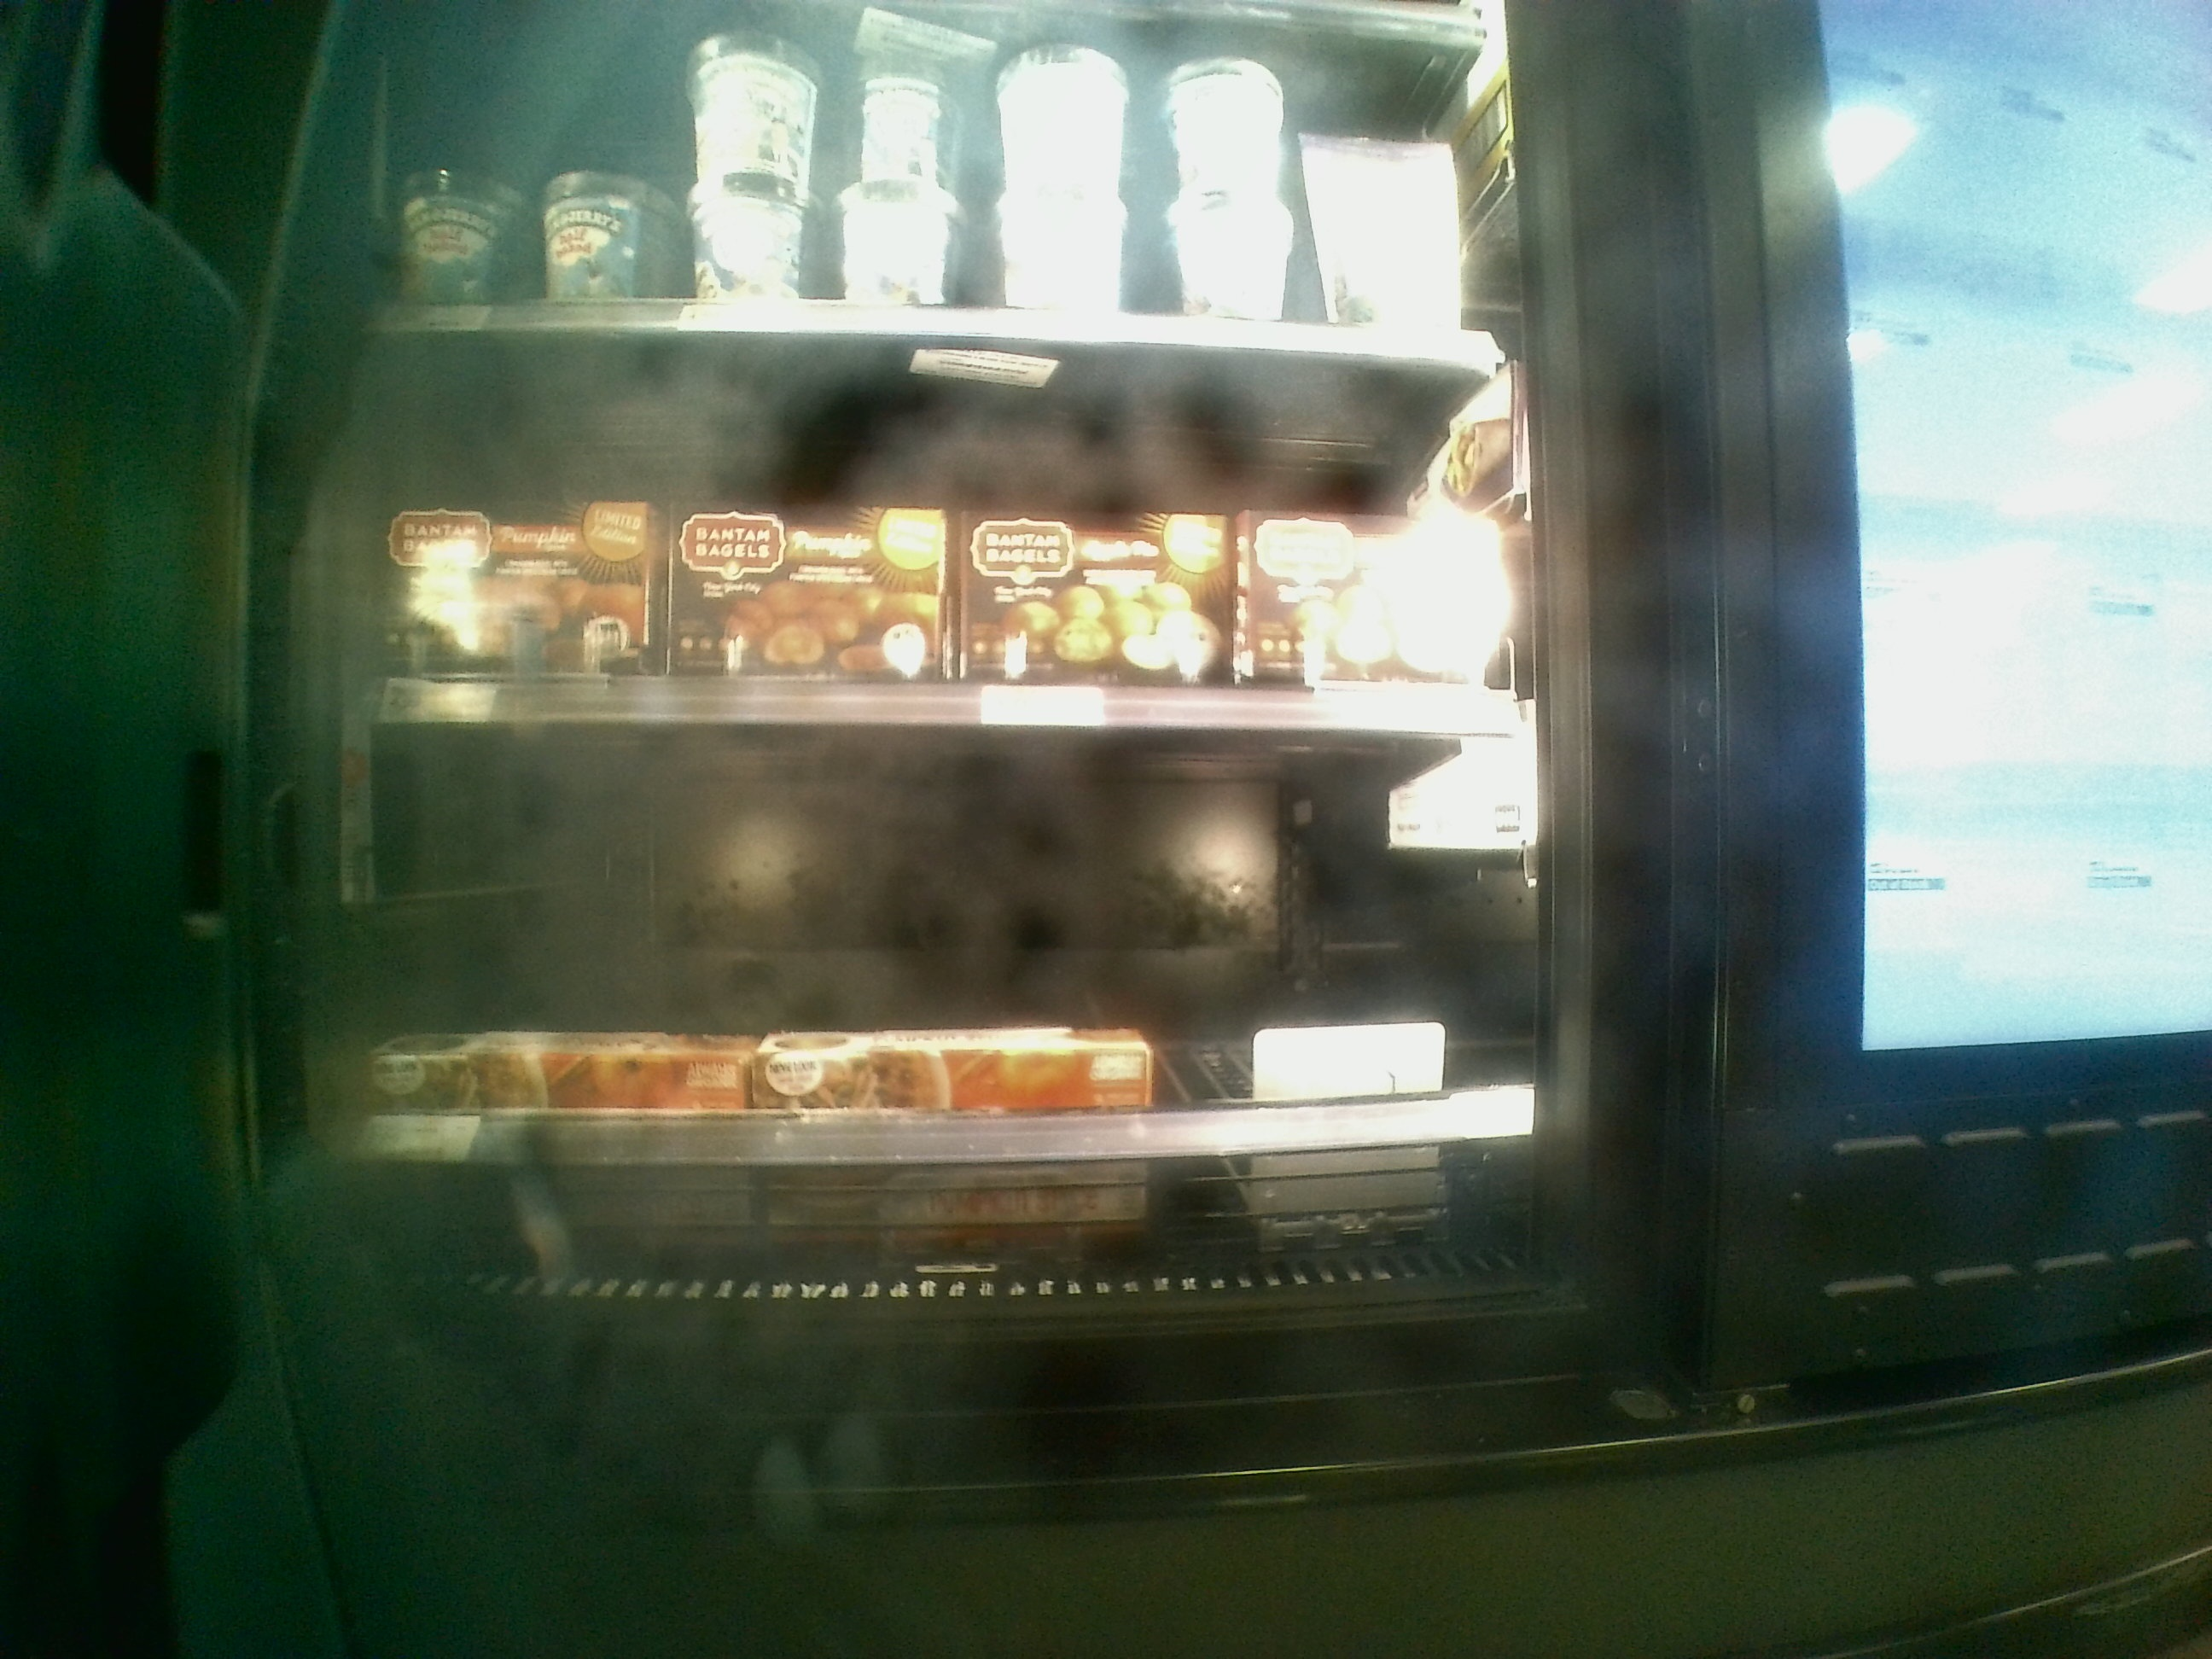shelf: (338, 699, 1555, 1157), (366, 314, 1540, 732)
